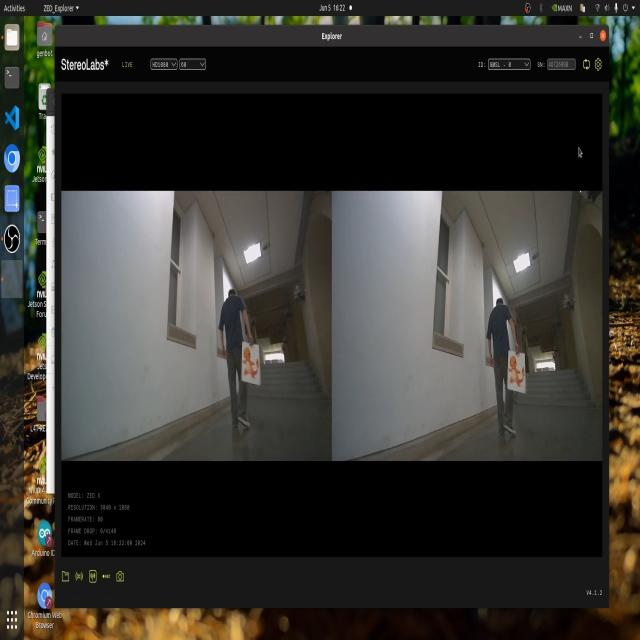red: (504, 348, 529, 406), (240, 340, 258, 396)
